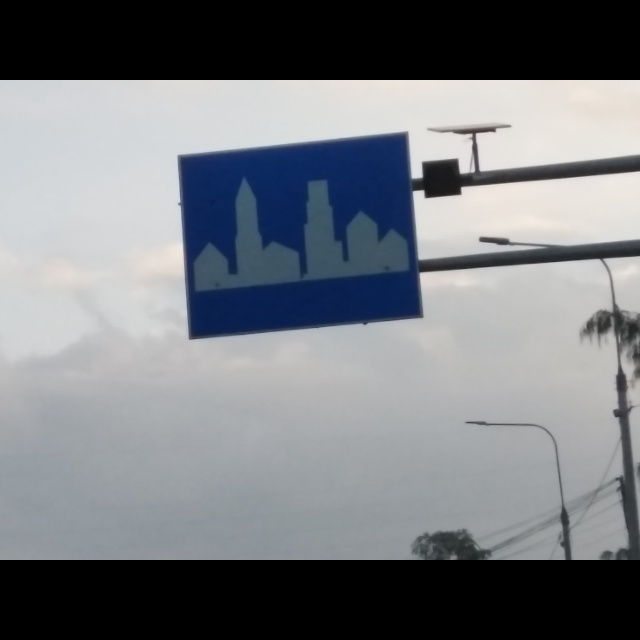Khu đông dân cư: (178, 132, 428, 343)
